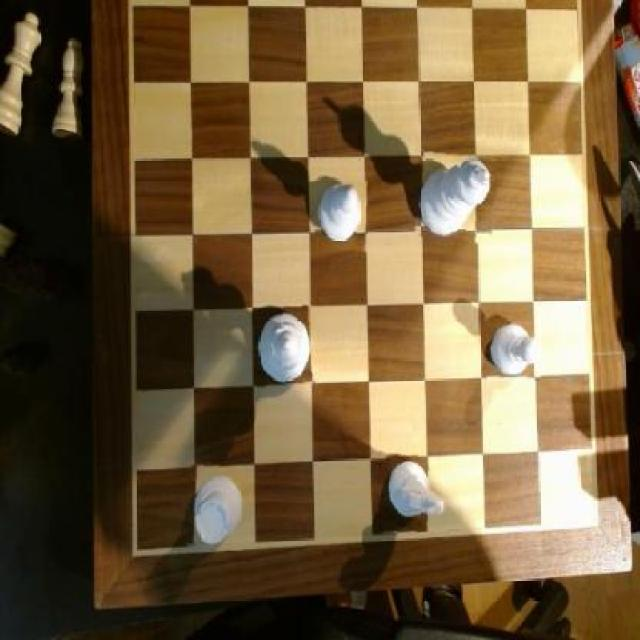black-rook: (316, 177, 370, 251)
white-bishop: (417, 152, 496, 243)
white-king: (385, 454, 450, 536)
white-knight: (488, 312, 542, 381)
white-pawn: (254, 308, 315, 390)
white-queen: (188, 466, 245, 551)
